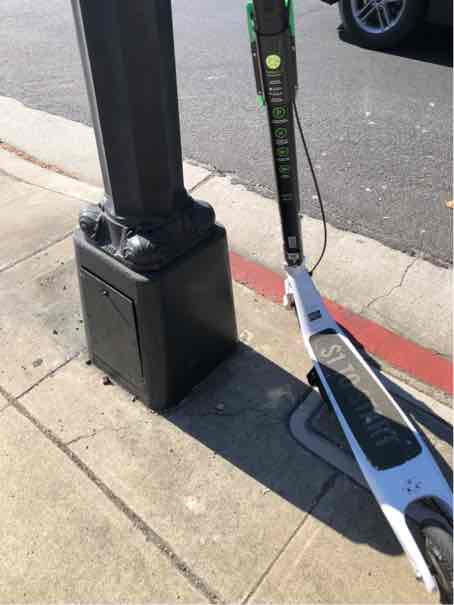scooter: (133, 17, 448, 602)
